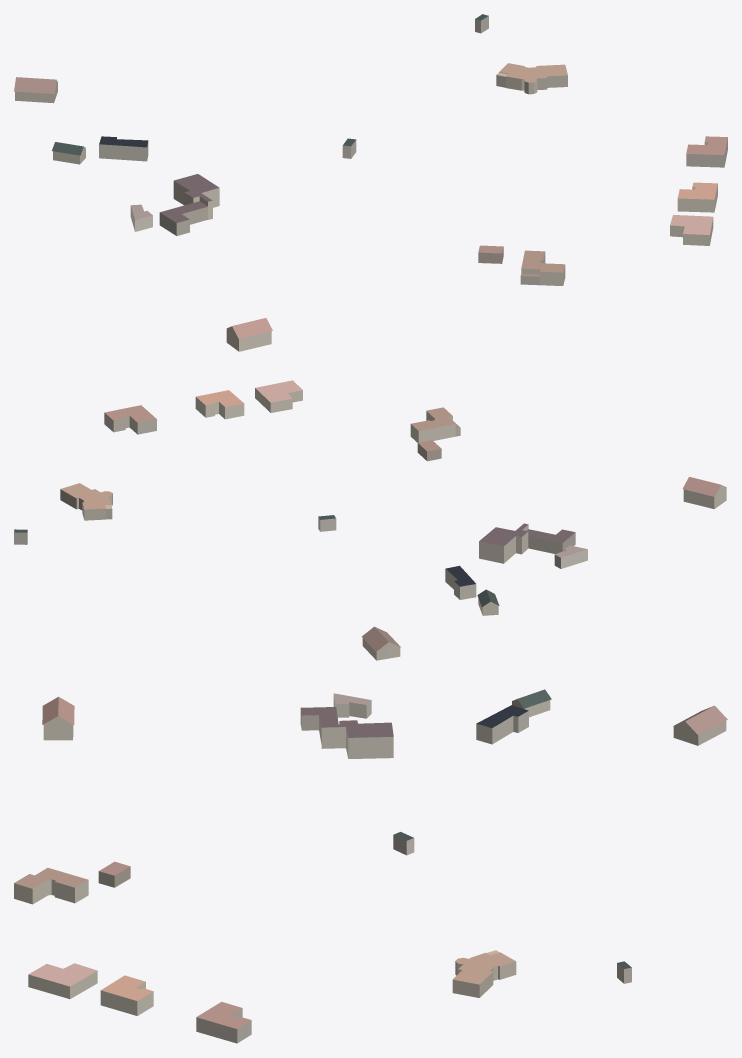
3 renders of one model, top to bottom at view 1: azimuth 30°, elevation 25°; view 2: azimuth 150°, elevation 25°; view 3: azimuth 270°, elevation 25°, orthographic. The views are drawn at different scales.
Parts seen in each view (by area): view 1: tuile; view 2: tuile; view 3: tuile.
Part boxes in pixels (x1,y1,x2,y2): tuile: [14, 14, 727, 351]; tuile: [14, 380, 726, 660]; tuile: [14, 689, 727, 1043].
Size of the model in its own units: 236 by 19.3 by 220.
